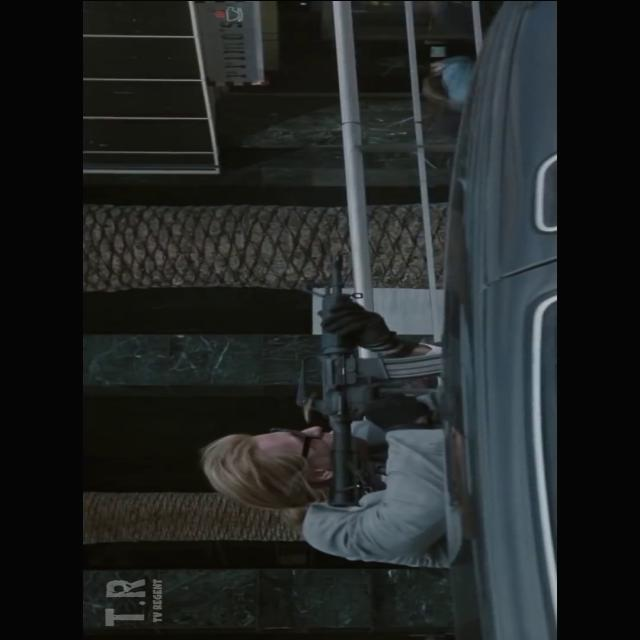long weapon: (272, 236, 442, 518)
